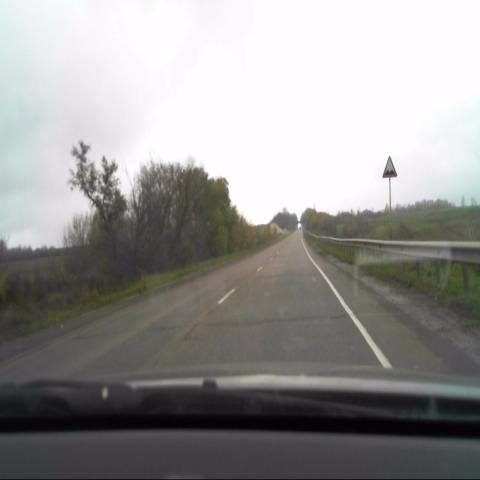1_16: (382, 154, 398, 179)
